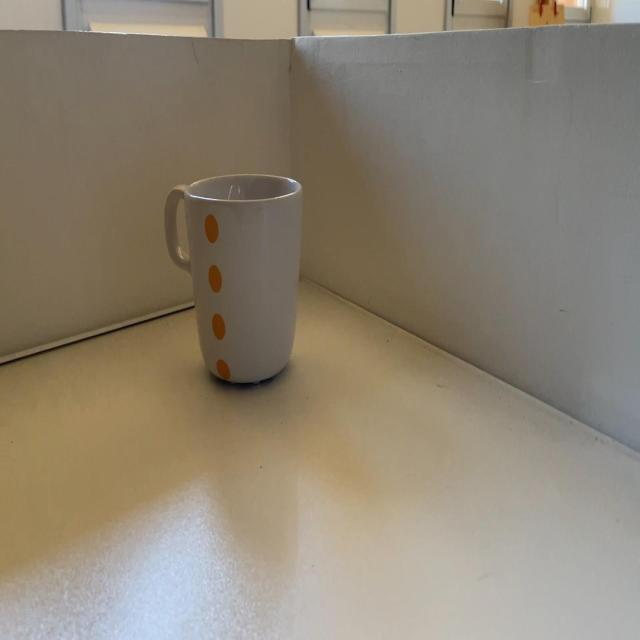cup: (162, 170, 306, 385)
